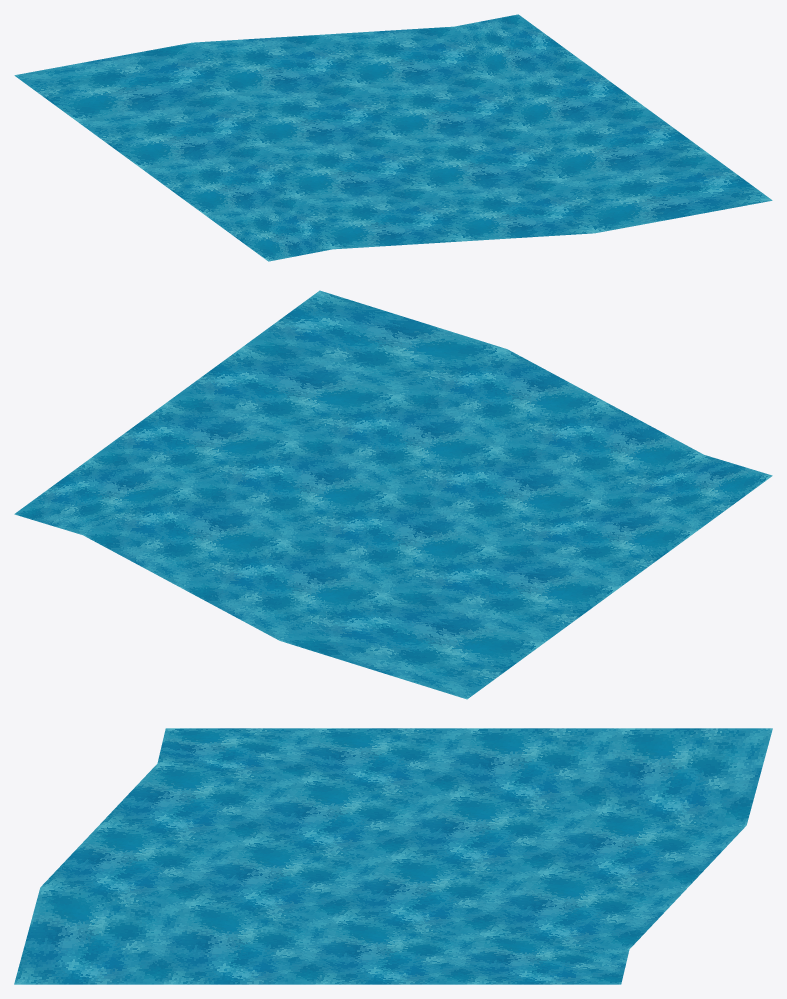
Rendered from Terrain_Water_River_Esse_CW_4x5.glb.
The picture shows the model from 3 angles, top to bottom: view 1: azimuth 30°, elevation 25°; view 2: azimuth 150°, elevation 25°; view 3: azimuth 270°, elevation 25°; orthographic projection. The views are drawn at different scales.
Visible parts, largest first — view 1: Terrain_Water_River_Esse_CW_4x5; view 2: Terrain_Water_River_Esse_CW_4x5; view 3: Terrain_Water_River_Esse_CW_4x5.
Boxes of the visible parts, x1=… form: Terrain_Water_River_Esse_CW_4x5: x1=14, y1=14, x2=772, y2=261; Terrain_Water_River_Esse_CW_4x5: x1=14, y1=290, x2=772, y2=699; Terrain_Water_River_Esse_CW_4x5: x1=14, y1=728, x2=772, y2=984.
Bounding box in the file's own units: 400 × 0.000142 × 500.
1 material, 1 textured.
